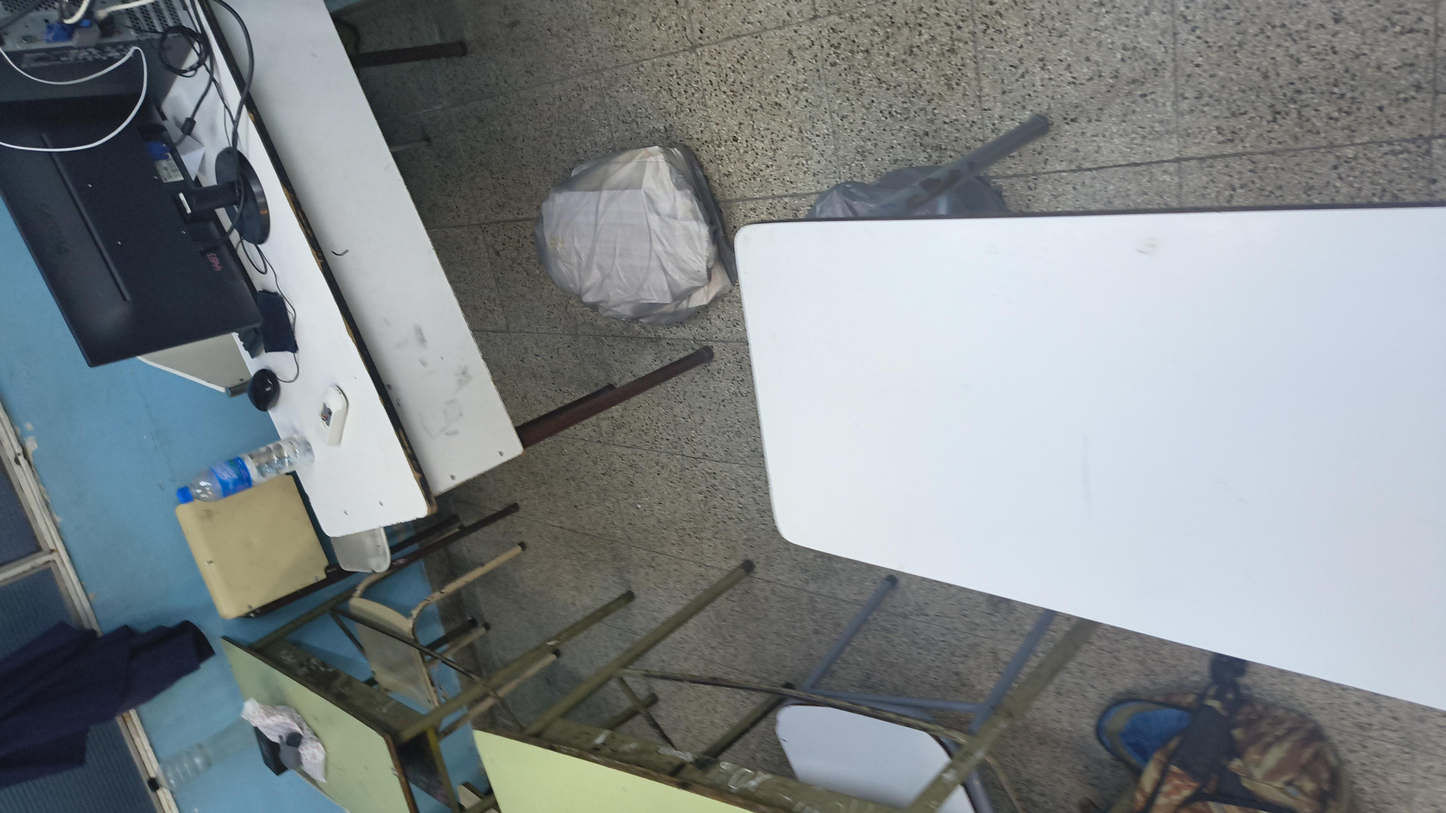Garbage: (828, 280, 1324, 435)
